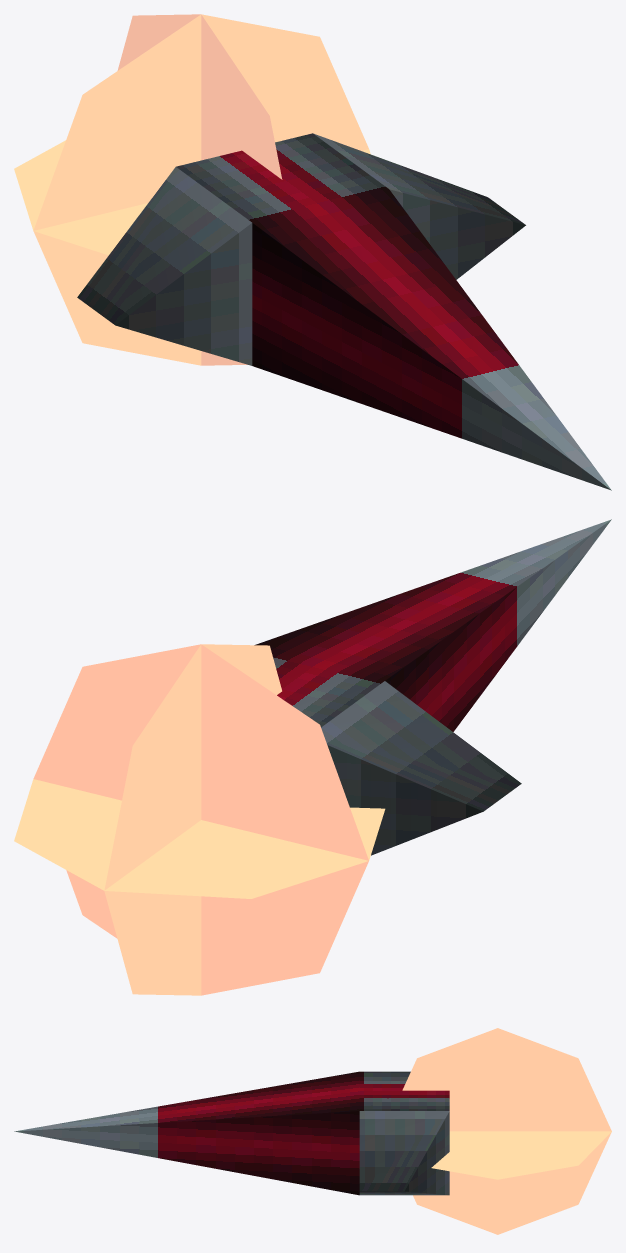
The model's file is mp-obj043-rocket-helfire.glb.
The picture shows the model from 3 angles, top to bottom: view 1: azimuth 30°, elevation 25°; view 2: azimuth 150°, elevation 25°; view 3: azimuth 270°, elevation 25°; orthographic projection. The views are drawn at different scales.
Parts seen in each view (by area): view 1: Mp_obj_043; view 2: Mp_obj_043; view 3: Mp_obj_043.
Boxes of the visible parts, x1,y1,x2,y2 form: Mp_obj_043: [14, 14, 611, 490]; Mp_obj_043: [14, 519, 611, 995]; Mp_obj_043: [14, 1028, 611, 1234].
Size of the model in its own units: 0.1816 by 0.1484 by 0.3887.
2 materials, 1 textured.
